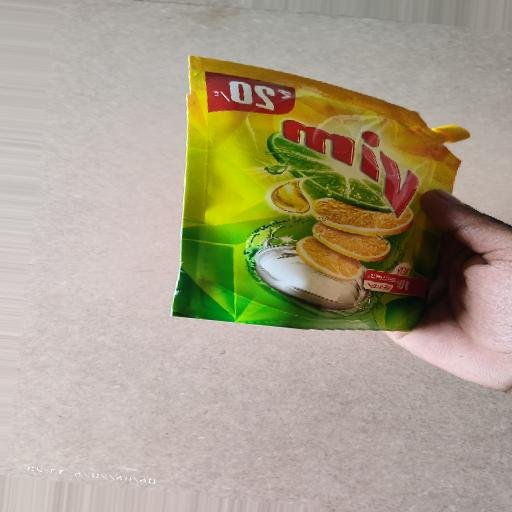VIM Dishwash liquid: (149, 22, 492, 390)
